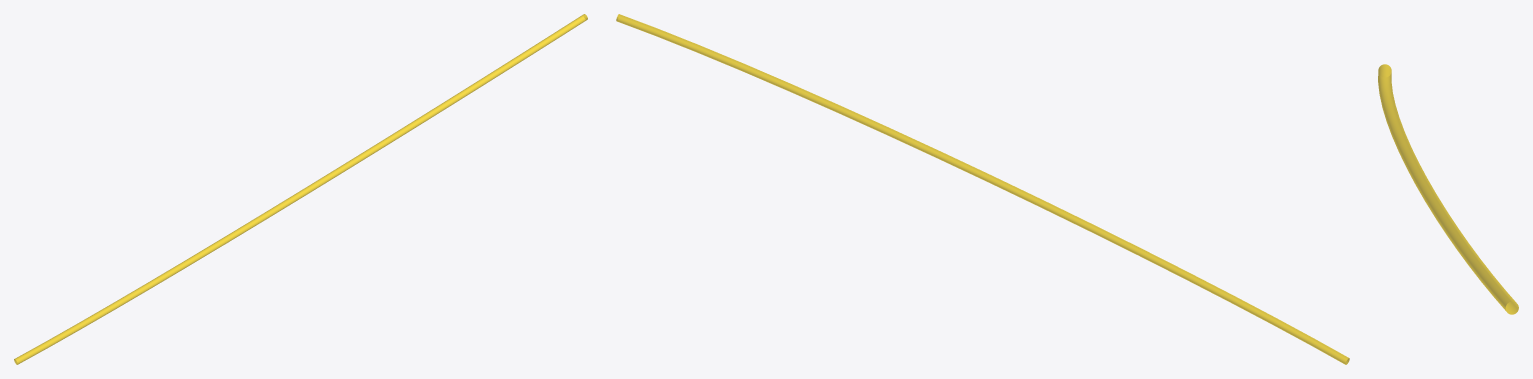
Rendered from Event_100608114_track_140.fbx.
3 renders of one model, left to right at view 1: azimuth 30°, elevation 25°; view 2: azimuth 150°, elevation 25°; view 3: azimuth 270°, elevation 25°, orthographic. The views are drawn at different scales.
Parts seen in each view (by area): view 1: Model; view 2: Model; view 3: Model.
Boxes of the visible parts, x1,y1,x2,y2 form: Model: (14,14,587,364); Model: (616,14,1349,364); Model: (1378,64,1518,314).
Size of the model in its own units: 4.12 by 1.18 by 0.417.
